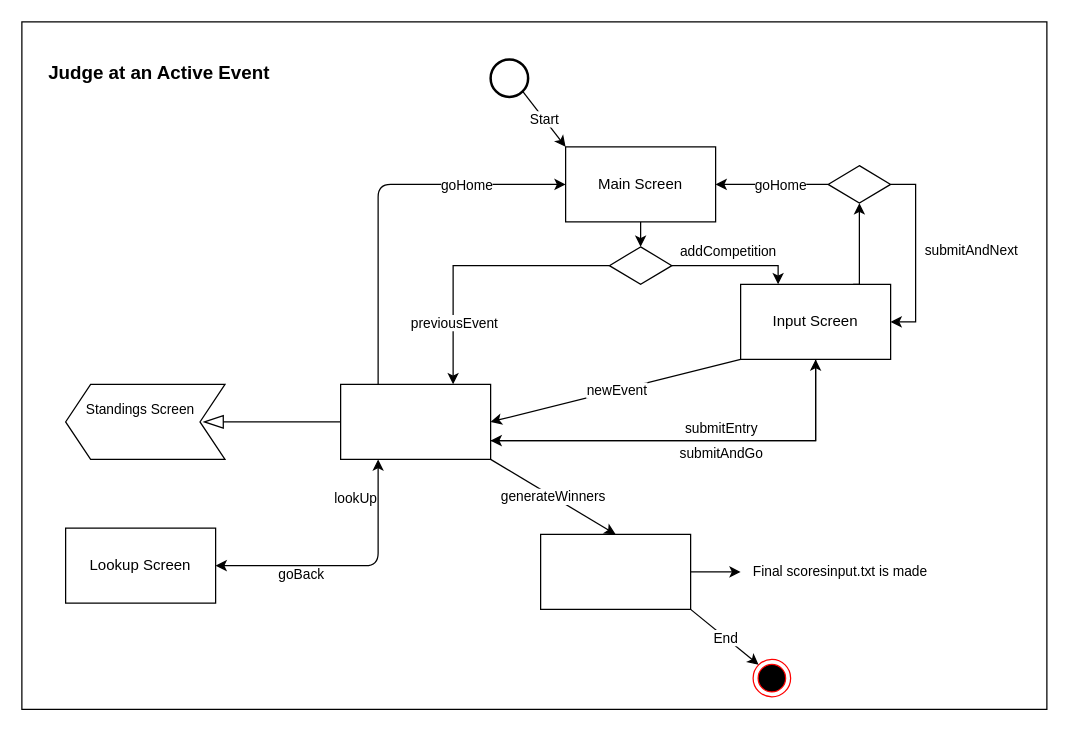
Image size: 1069x731. Some labels were removed from this diagram. The centre of each missing label's shape, as x and y in pixels:
"Summary Screen" belongs at (x=415, y=421).
"Winners Screen" belongs at (x=615, y=571).
